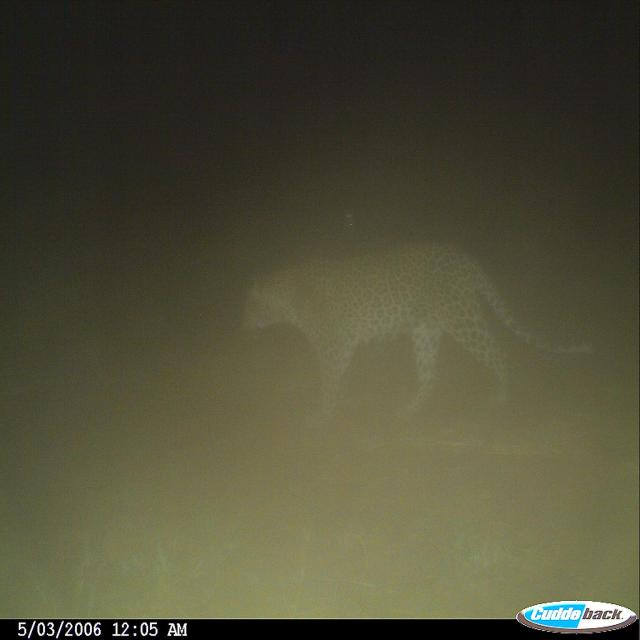Leopard: (238, 235, 596, 420)
